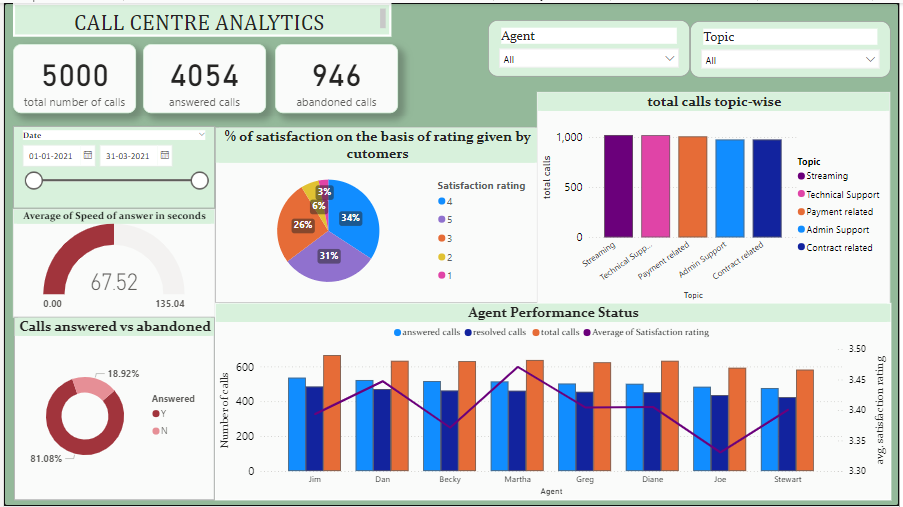

What the dashboard file says about the page in this screenshot:
{"tool":"powerbi","page":{"name":"Page 1","canvas":[1280,720],"ordinal":0},"visuals":[{"type":"textbox","box":[24,0,528,48],"z":0},{"type":"pieChart","title":"% of satisfaction on the basis of rating given by cutomers","fields":{"Category":["Sheet1.Satisfaction rating"],"Y":["Sum(Sheet1.Satisfaction rating)"]},"box":[750.7,65.7,489.6,326.9],"z":1000},{"type":"columnChart","title":"Total number of calls answered vs abandoned","fields":{"Category":["Sheet1.Answered (Y/N)"],"Y":["CountNonNull(Sheet1.Topic)"],"Series":["Sheet1.Topic"]},"box":[750.7,392.5,489.6,303],"z":2000},{"type":"lineChart","title":"Time duration given to calls","fields":{"Category":["Sheet1.Time"],"Y":["CountNonNull(Sheet1.Time)"]},"box":[23.9,455.2,694,240.3],"z":3000},{"type":"slicer","fields":{"Values":["Sheet1.Agent"]},"box":[11.9,77.6,265.7,80.6],"z":4000},{"type":"slicer","fields":{"Values":["Sheet1.Topic"]},"box":[11.9,177.6,265.7,80.6],"z":5000},{"type":"slicer","fields":{"Values":["Sheet1.Date"]},"box":[11.9,274.6,265.7,103],"z":6000},{"type":"gauge","fields":{"Y":["Avg(Sheet1.Speed of answer in seconds)"]},"box":[344.8,300,373.1,155.2],"z":7000},{"type":"donutChart","fields":{"Y":["CountNonNull(Sheet1.Answered (Y/N))"],"Category":["Sheet1.Answered (Y/N)"]},"box":[344.8,65.7,373.1,234.3],"z":8000}]}

Visuals, with their boxes in screenshot pixels (x1, y1, x2, y2), scaled from the page's 1280x720 canvas onto the 903x507 screenshot:
textbox: [17,0,389,34]
"% of satisfaction on the basis of rating given by cutomers" pieChart: [530,46,875,276]
"Total number of calls answered vs abandoned" columnChart: [530,276,875,490]
"Time duration given to calls" lineChart: [17,321,506,490]
slicer - Sheet1.Agent: [8,55,196,111]
slicer - Sheet1.Topic: [8,125,196,182]
slicer - Sheet1.Date: [8,193,196,266]
gauge - Avg(Sheet1.Speed of answer in seconds): [243,211,506,321]
donutChart - CountNonNull(Sheet1.Answered (Y/N)) x Sheet1.Answered (Y/N): [243,46,506,211]
